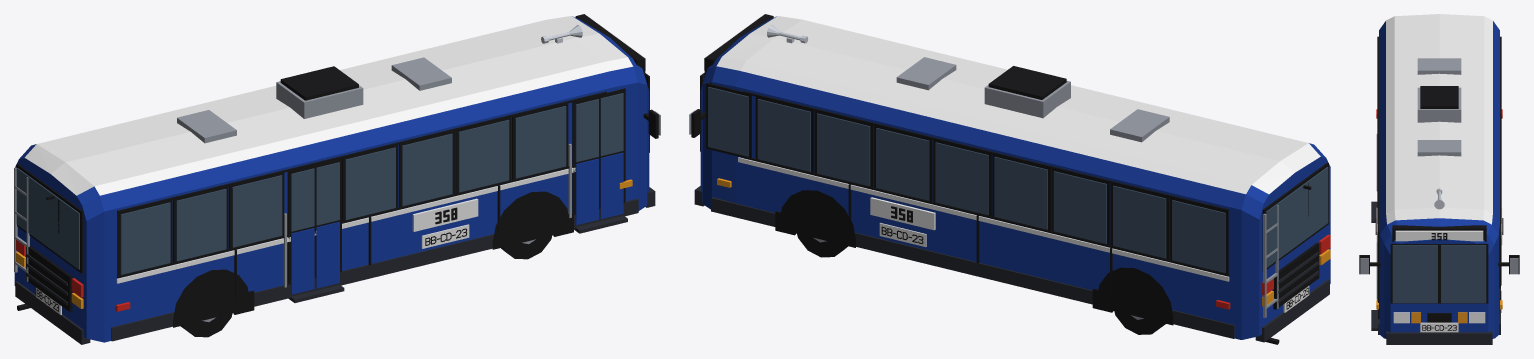
The model's file is micro_azul.obj.
3 renders of one model, left to right at view 1: azimuth 30°, elevation 25°; view 2: azimuth 150°, elevation 25°; view 3: azimuth 270°, elevation 25°, orthographic. The views are drawn at different scales.
Visible parts, largest first — view 1: micro_azul; view 2: micro_azul; view 3: micro_azul.
Boxes of the visible parts, x1=… form: micro_azul: x1=14, y1=14, x2=660, y2=344; micro_azul: x1=689, y1=14, x2=1330, y2=344; micro_azul: x1=1359, y1=14, x2=1519, y2=344.
Bounding box in the file's own units: 10.8 × 3.43 × 3.32.
